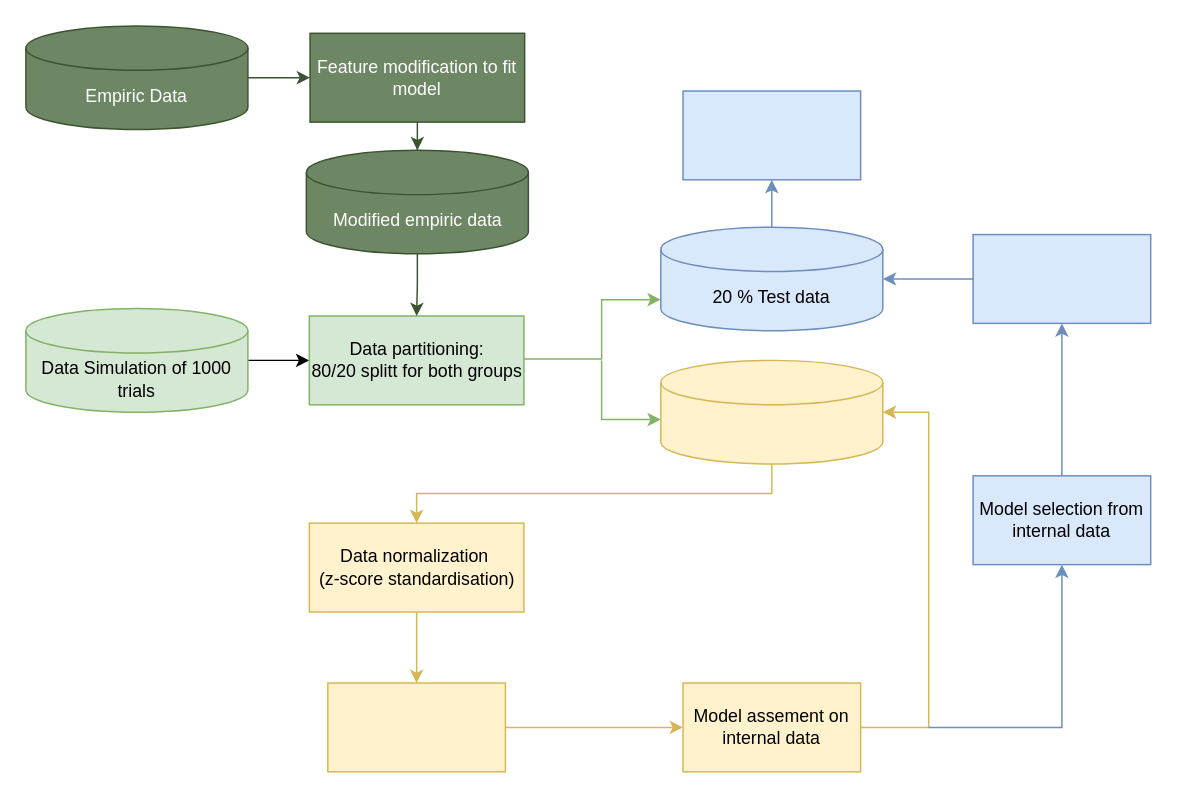
Some shapes in this 1177 by 798 pixel diagram are drawn without their labels. The centre of each missing label's shape, as x and y in pixels:
"80% training data" goes at (x=771, y=411).
"Defining fit of model and training model" goes at (x=415, y=727).
"Model performance assement on external data" goes at (x=1061, y=278).
"Model selection / Interpretation of usefullness" goes at (x=771, y=135).
